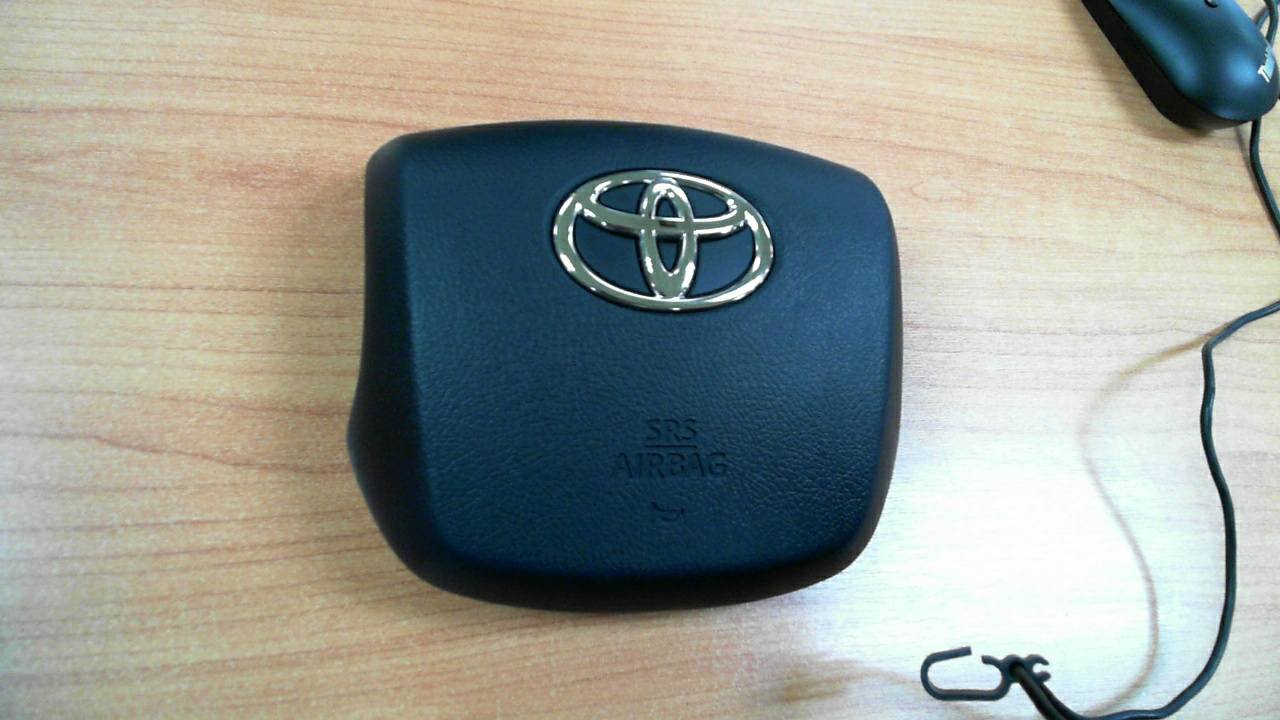Airbag: (317, 93, 921, 626)
